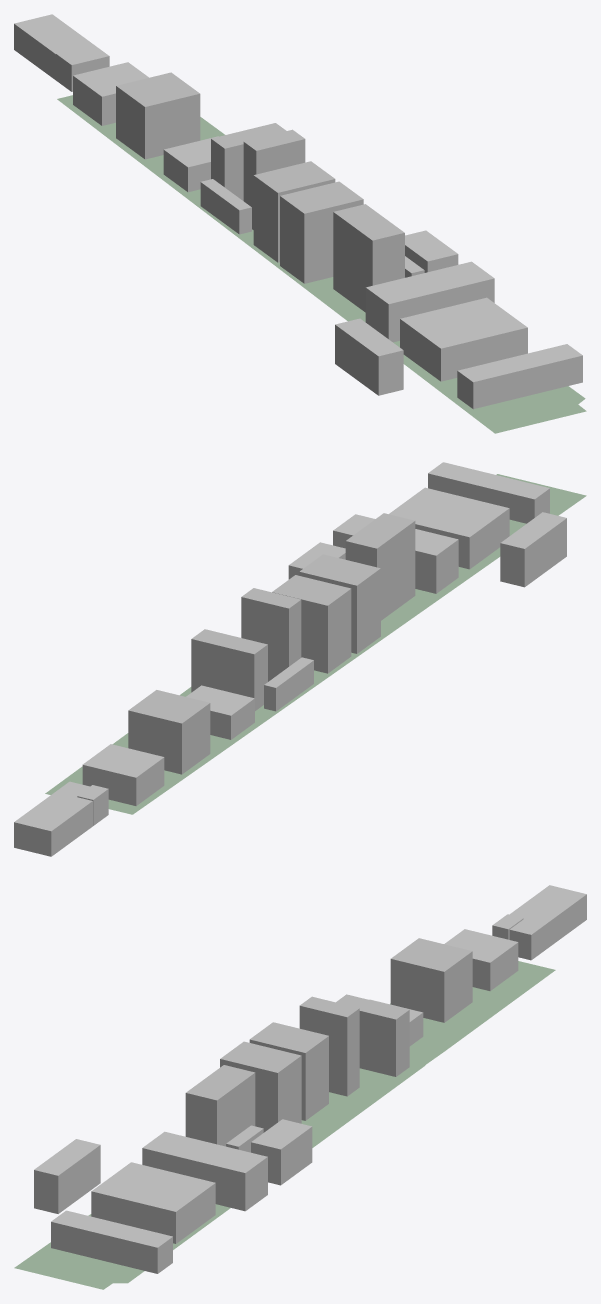
Rendered from 111_89_mid.glb.
3 views of the same model, one above another, from view 1: azimuth 30°, elevation 25°; view 2: azimuth 150°, elevation 25°; view 3: azimuth 330°, elevation 25° (orthographic). The views are drawn at different scales.
Size of the model in its own units: 92.5 by 44.18 by 495.
